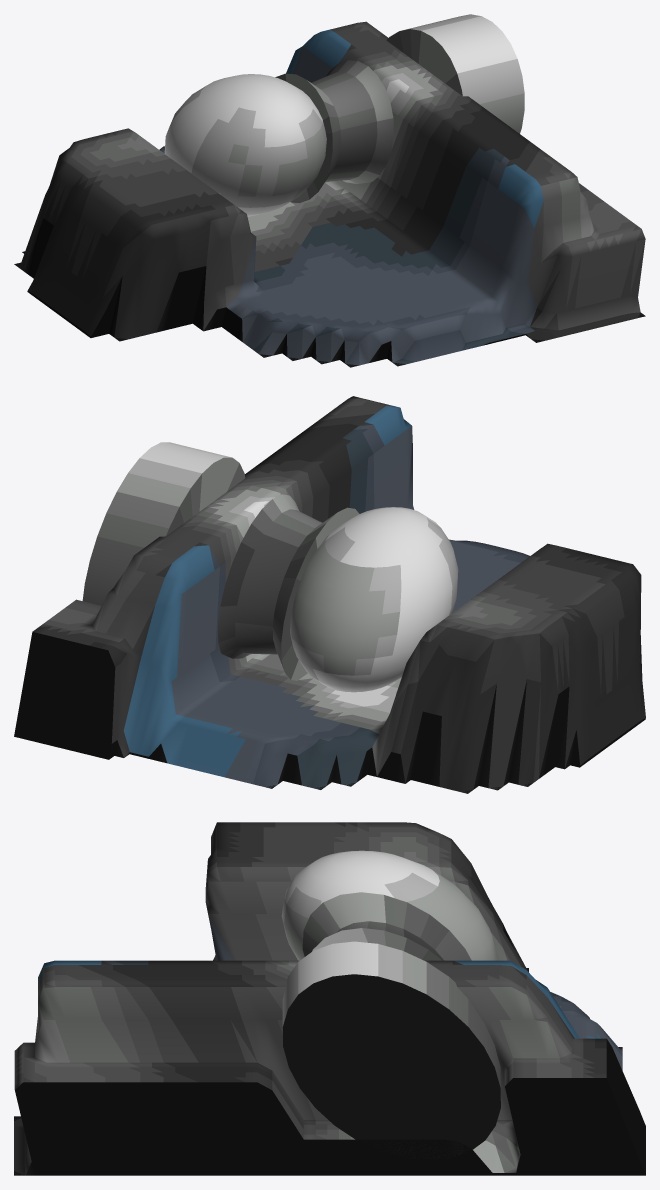
File: cannon_breech_r.glb
3 views of the same model, one above another, from view 1: azimuth 30°, elevation 25°; view 2: azimuth 150°, elevation 25°; view 3: azimuth 270°, elevation 25° (orthographic). The views are drawn at different scales.
Visible parts, largest first — view 1: cannon_breech_r; view 2: cannon_breech_r; view 3: cannon_breech_r.
Boxes of the visible parts, bbox=[...] form: cannon_breech_r: bbox=[14, 14, 645, 367]; cannon_breech_r: bbox=[14, 396, 645, 793]; cannon_breech_r: bbox=[14, 822, 645, 1175].
Size of the model in its own units: 24 by 9.5 by 27.
